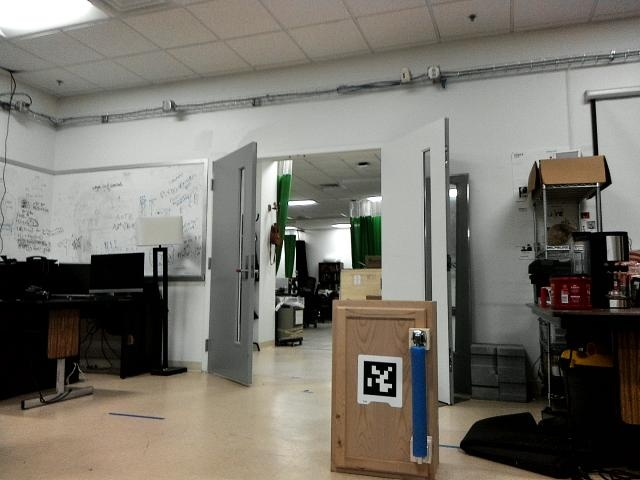noodle_handle: (404, 344, 430, 462)
